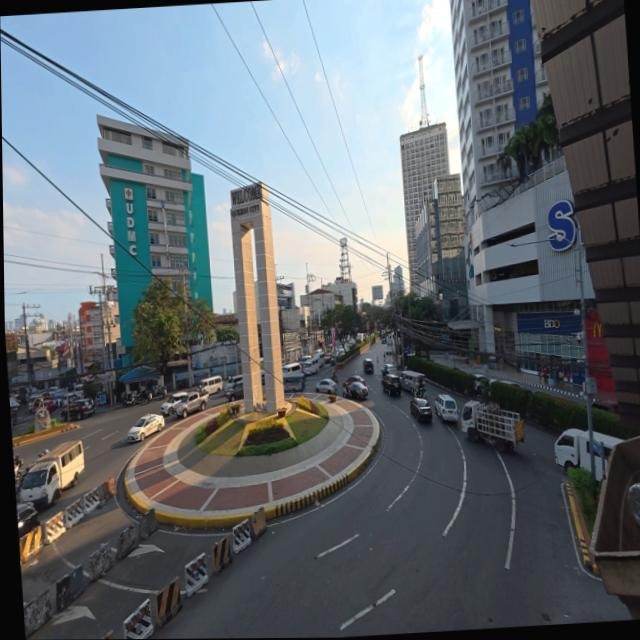car: (161, 388, 210, 417), (128, 413, 167, 444), (413, 397, 436, 425), (345, 375, 370, 399)
